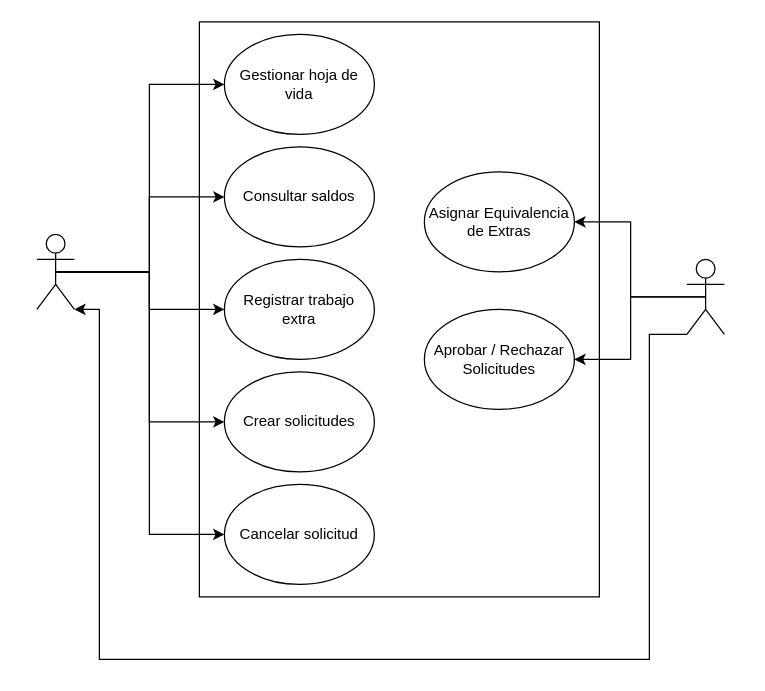
Image size: 765x691. Some labels were removed from this diagram. The box of each missing label's shape, as (x1, y1, x2, y2) in pixels:
Emple ado: (36, 233, 74, 309)
Jefe directo: (686, 258, 724, 334)
